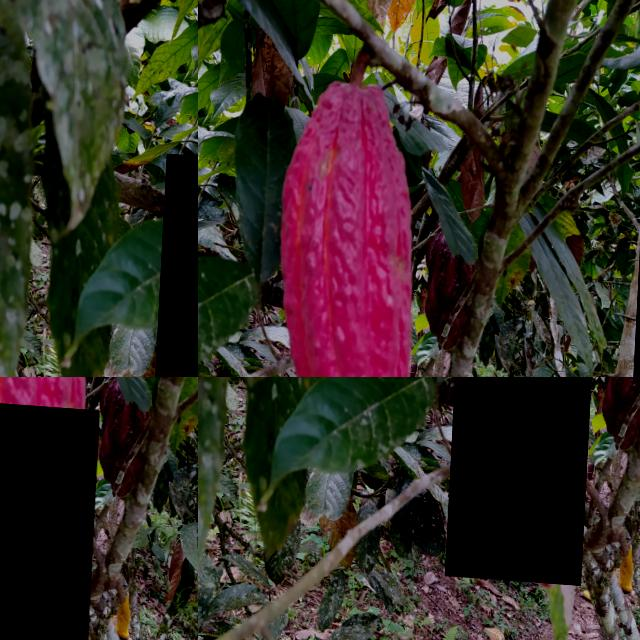Monilia: (0, 391, 102, 640)
Sana: (330, 24, 475, 377), (450, 377, 602, 579)
